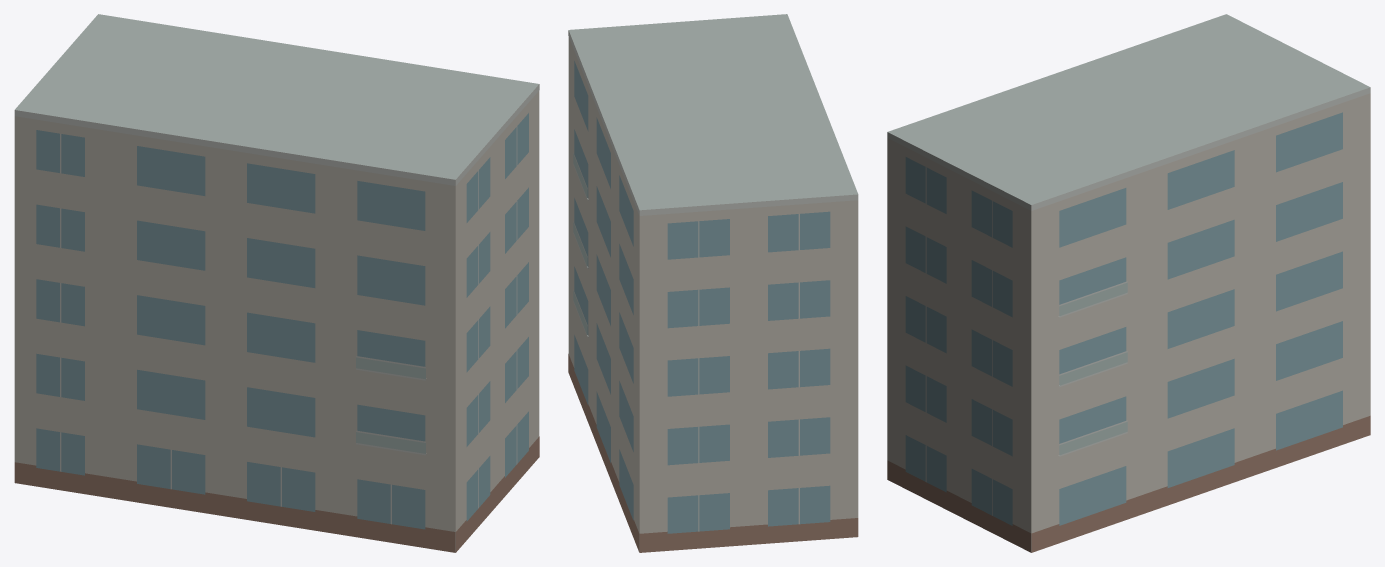
The model's file is survey-upis-32846515.glb.
3 views of the same model, side by side, from view 1: azimuth 30°, elevation 25°; view 2: azimuth 150°, elevation 25°; view 3: azimuth 270°, elevation 25° (orthographic). The views are drawn at different scales.
Parts seen in each view (by area): view 1: survey-upis-32846515.tmp; view 2: survey-upis-32846515.tmp; view 3: survey-upis-32846515.tmp.
Part boxes in pixels (x1=…): survey-upis-32846515.tmp: x1=14, y1=14, x2=539, y2=552; survey-upis-32846515.tmp: x1=568, y1=14, x2=858, y2=552; survey-upis-32846515.tmp: x1=887, y1=14, x2=1370, y2=552.
Bounding box in the file's own units: 17.1 × 14.5 × 18.27.
